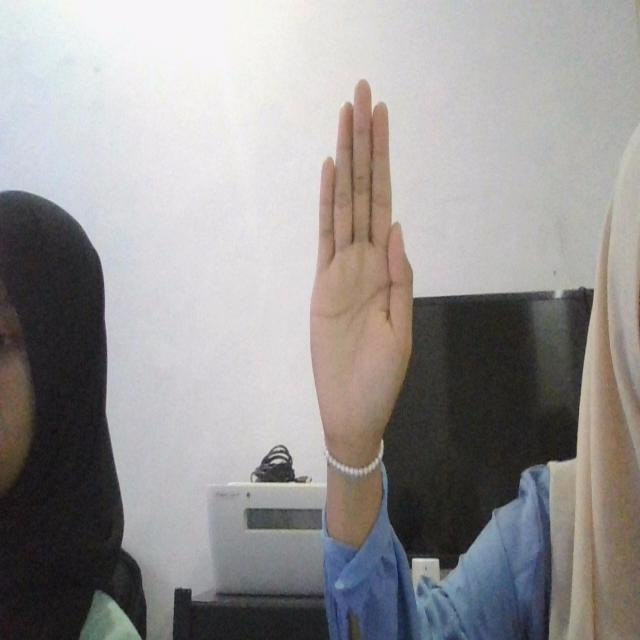hand: (308, 76, 414, 472)
